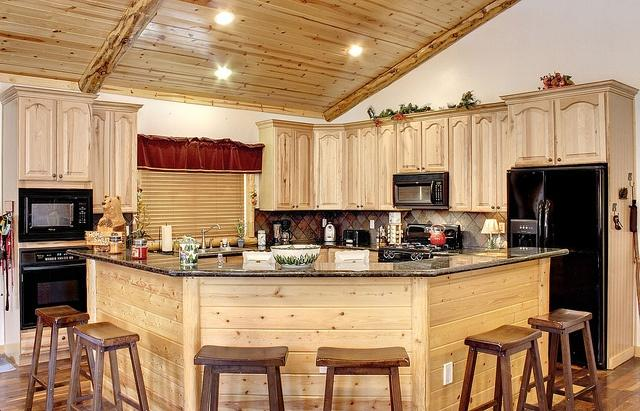Lemari: (272, 121, 396, 211), (505, 91, 608, 166), (17, 94, 91, 189), (447, 102, 508, 212), (90, 106, 138, 215)
